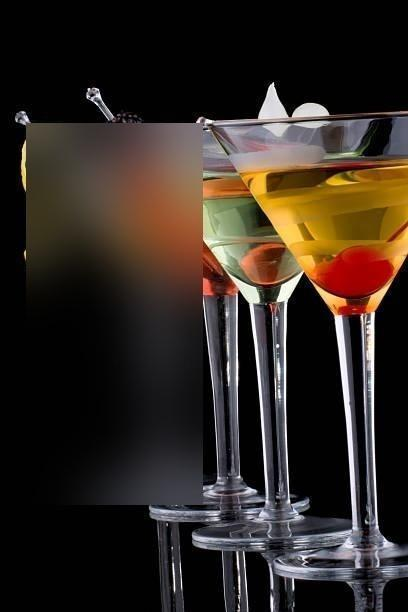glass-wine: (207, 107, 408, 572)
